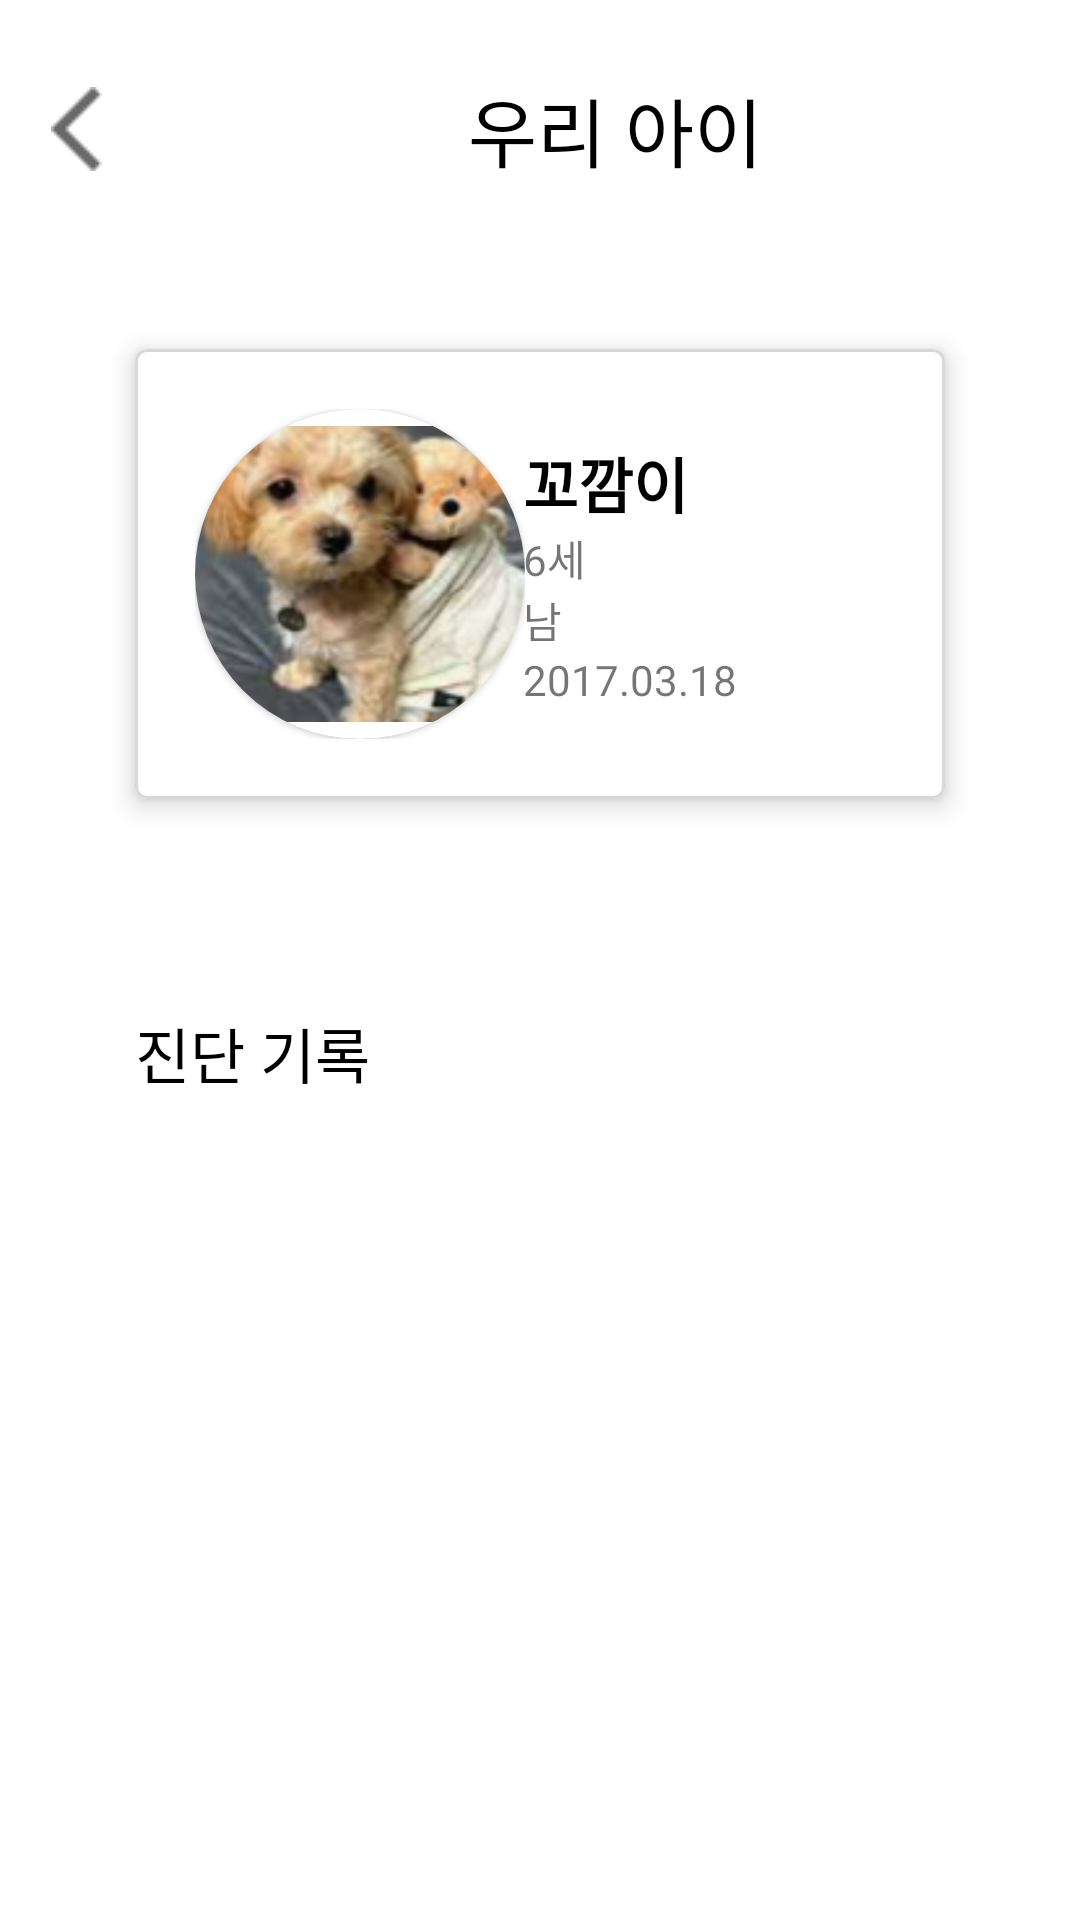

Named icons in this screenshot (1080×1920) and their bounding boxes, region(x1, y1, x2, y2):
back: region(51, 87, 102, 171)
